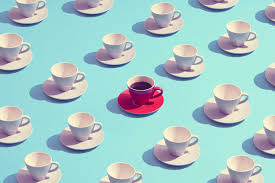cup: (66, 111, 104, 143), (225, 154, 265, 183), (98, 32, 137, 59), (1, 32, 33, 63)
